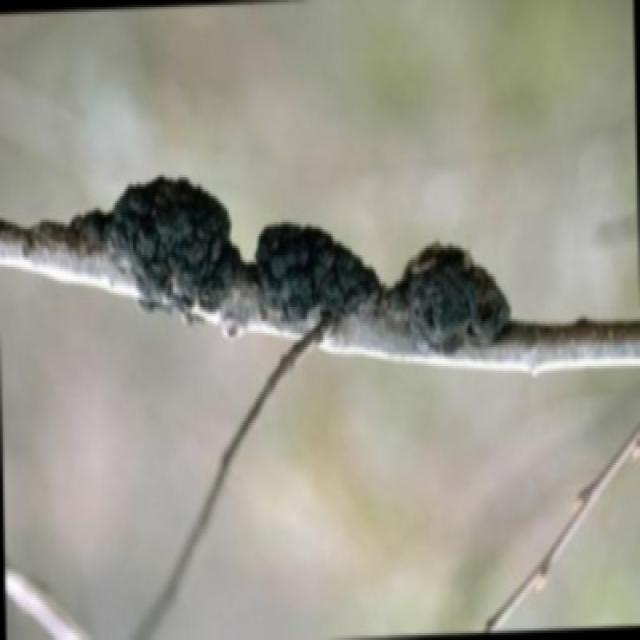Black_knot: (109, 170, 243, 319), (253, 217, 381, 331), (400, 239, 512, 354)
